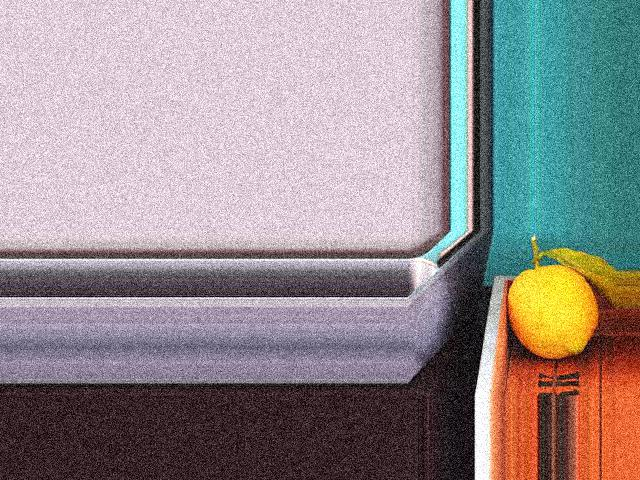lemon: (501, 259, 601, 359)
